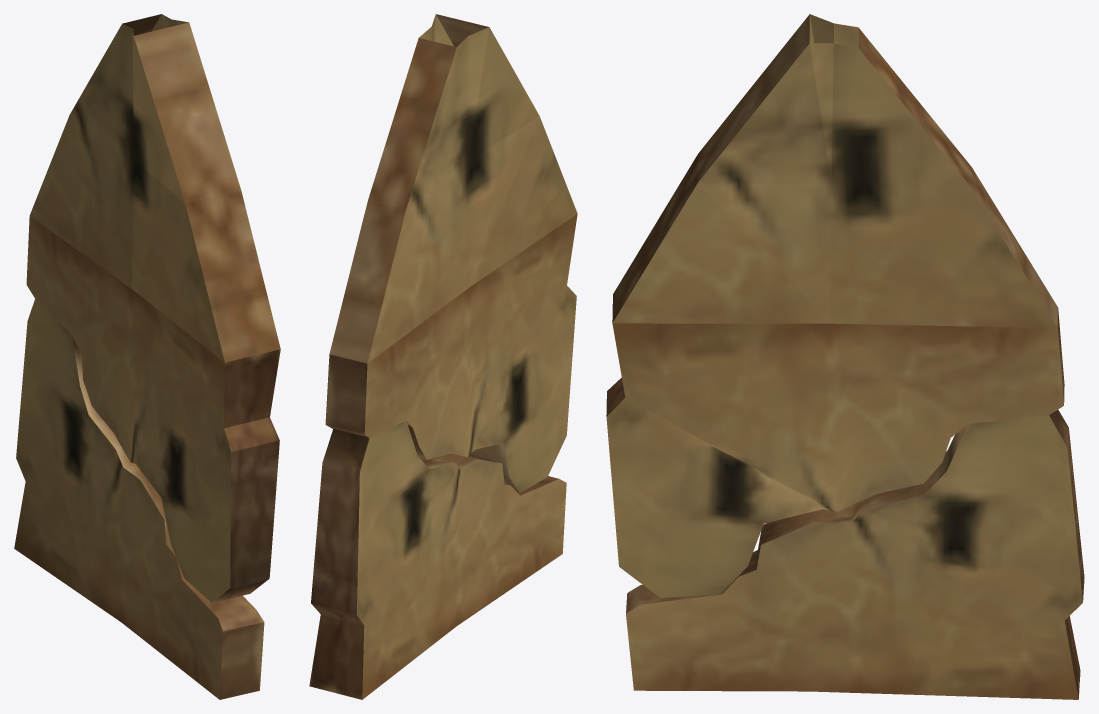
File: ruins_12.fbx
3 views of the same model, side by side, from view 1: azimuth 30°, elevation 25°; view 2: azimuth 150°, elevation 25°; view 3: azimuth 270°, elevation 25° (orthographic). The views are drawn at different scales.
Visible parts, largest first — view 1: Object9154; view 2: Object9154; view 3: Object9154.
Boxes of the visible parts, x1,y1,x2,y2 form: Object9154: [14, 14, 280, 699]; Object9154: [309, 14, 577, 699]; Object9154: [606, 14, 1084, 699].
Size of the model in its own units: 78.93 by 740 by 491.
Materials: 1 (1 with a texture image).
